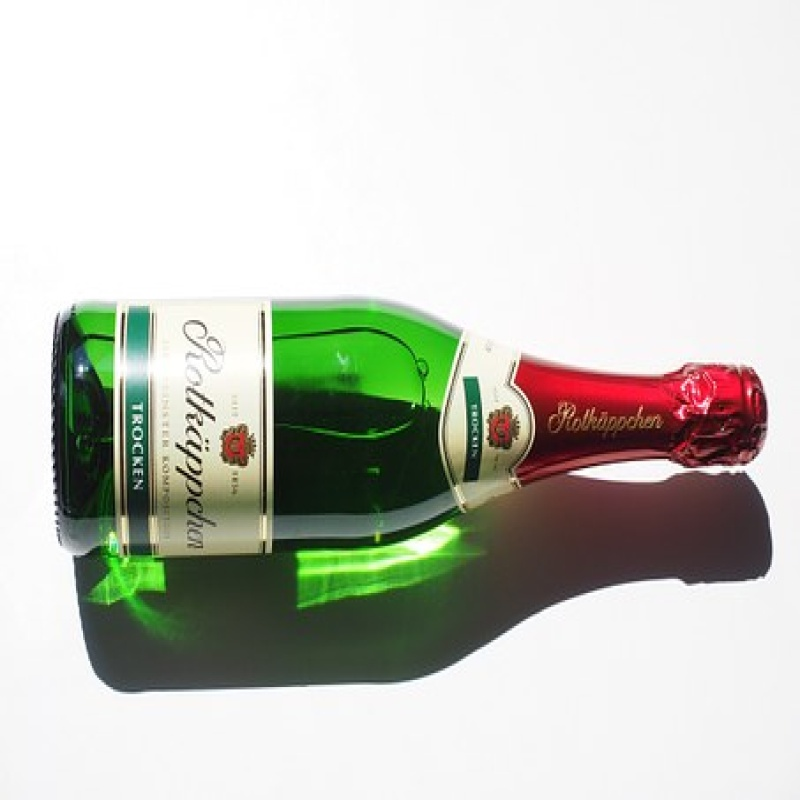wine: (54, 308, 771, 565)
